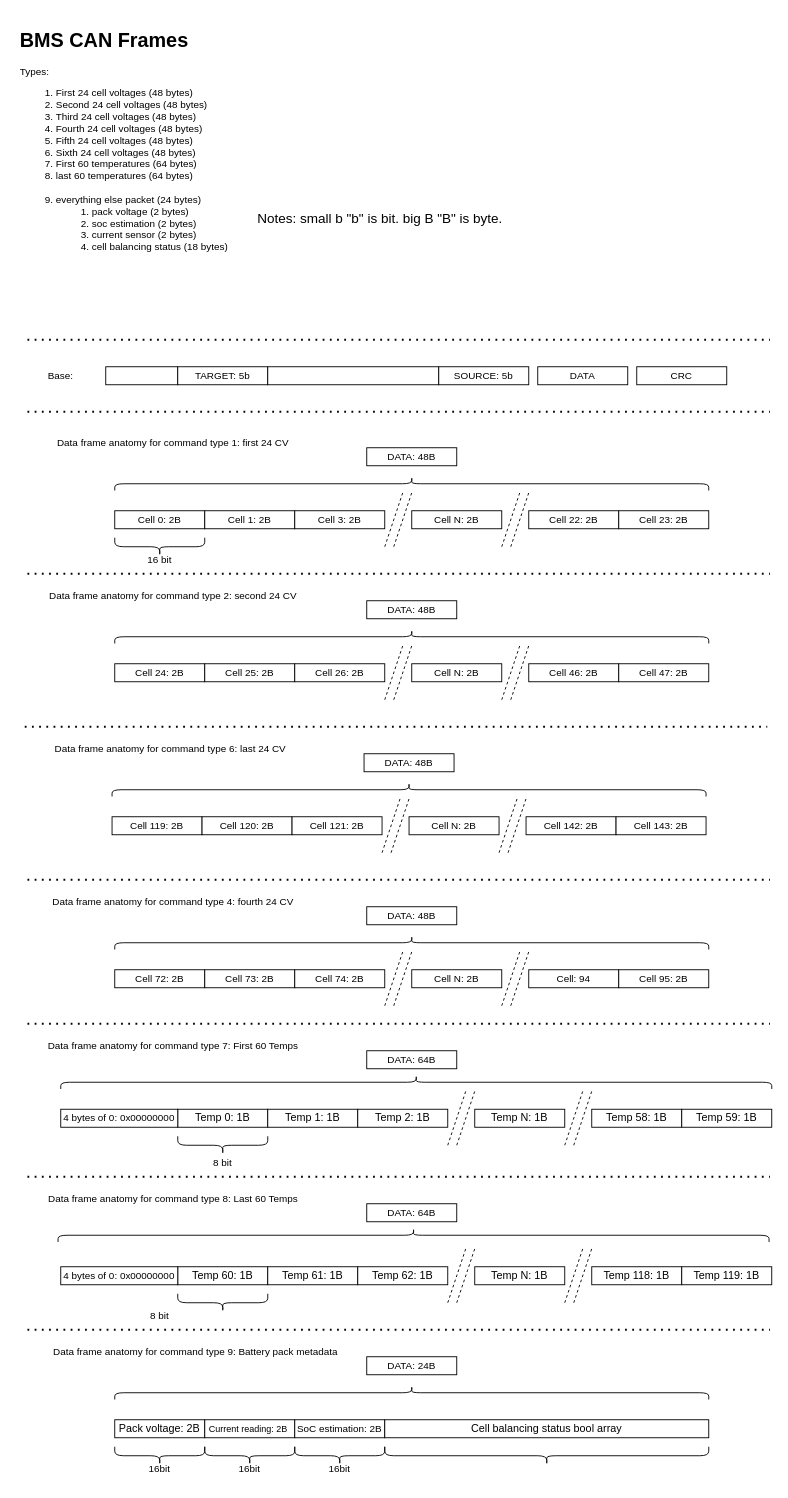
This 788x1498 diagram has some shape labels left out. Here are the shapes that lost their labels. From the top down, the centre of each, then its label:
point (141, 375): PRIO: 3b
point (353, 375): COMMAND: 16b
point (546, 1455): 18 byte "array"
